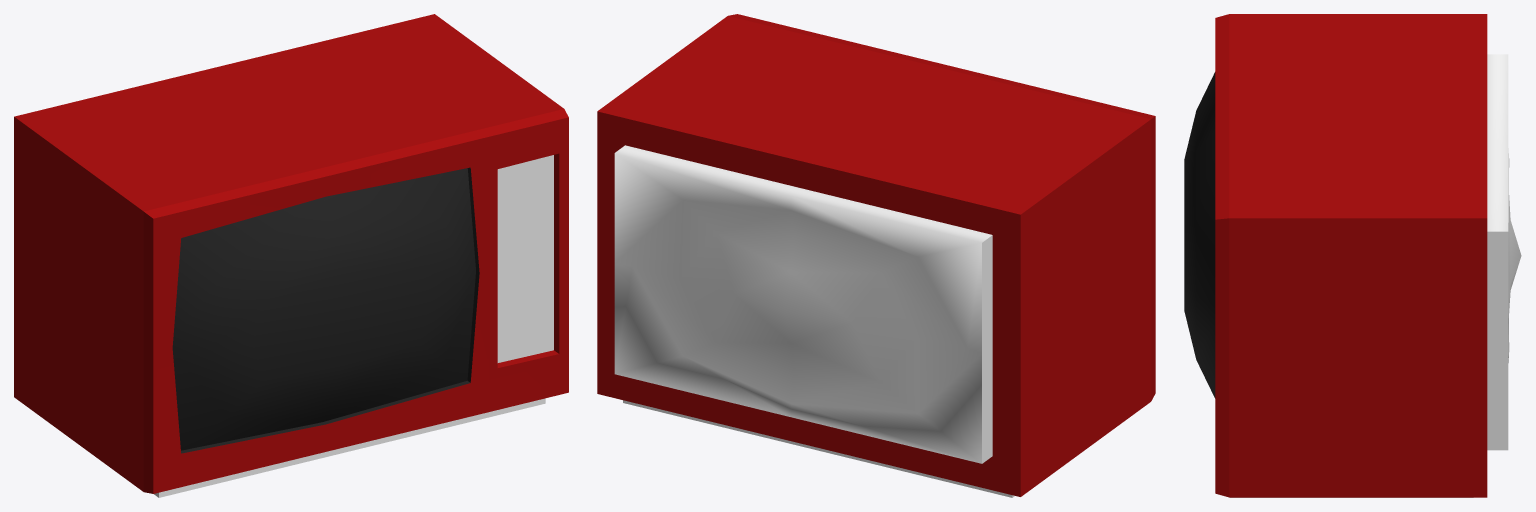
Rendered from microondas.FBX.
3 views of the same model, side by side, from view 1: azimuth 30°, elevation 25°; view 2: azimuth 150°, elevation 25°; view 3: azimuth 270°, elevation 25° (orthographic).
Visible parts, largest first — view 1: Box001; view 2: Box001; view 3: Box001.
Boxes of the visible parts, x1=… form: Box001: x1=14, y1=14, x2=568, y2=497; Box001: x1=597, y1=14, x2=1155, y2=497; Box001: x1=1184, y1=14, x2=1521, y2=497.
Size of the model in its own units: 34.6 by 22.81 by 24.13.
